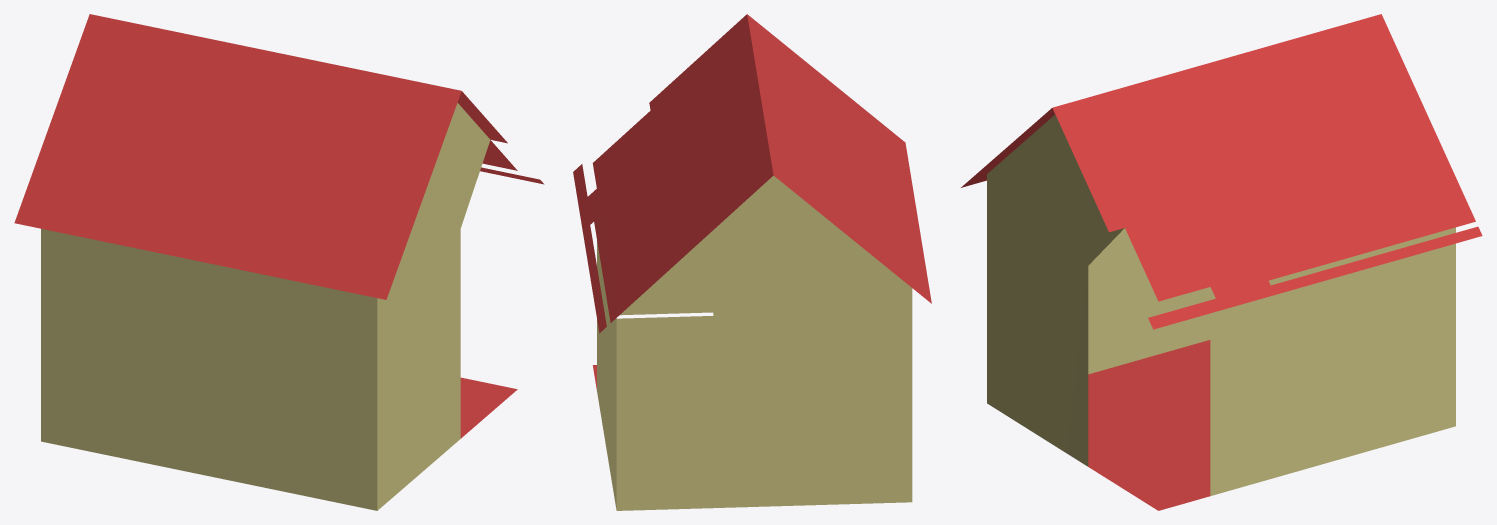
3 renders of one model, left to right at view 1: azimuth 30°, elevation 25°; view 2: azimuth 150°, elevation 25°; view 3: azimuth 270°, elevation 25°, orthographic. The views are drawn at different scales.
Size of the model in its own units: 13.29 by 13.65 by 10.13.
